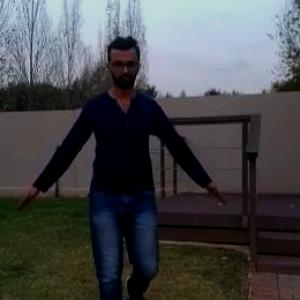land: (24, 48, 209, 299)
